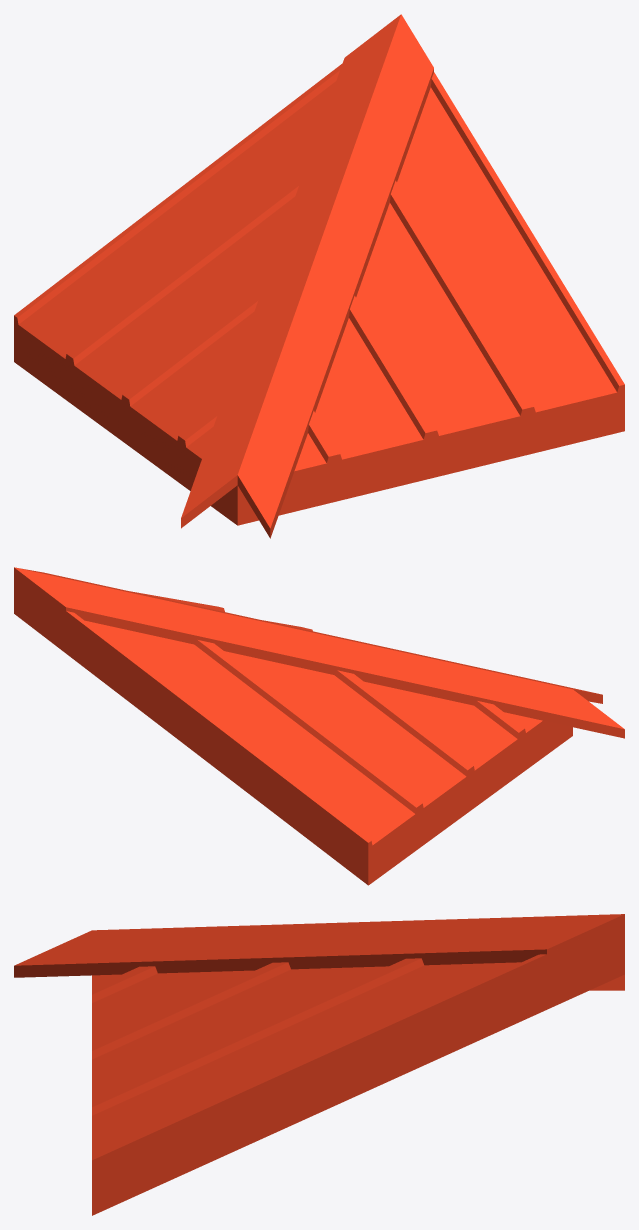
File: roof-metal-moderate-2x2m-corner-a.fbx
The picture shows the model from 3 angles, top to bottom: view 1: azimuth 30°, elevation 25°; view 2: azimuth 150°, elevation 25°; view 3: azimuth 270°, elevation 25°; orthographic projection. The views are drawn at different scales.
Parts seen in each view (by area): view 1: roof-metal-moderate-2x2m-corner-a; view 2: roof-metal-moderate-2x2m-corner-a; view 3: roof-metal-moderate-2x2m-corner-a.
Boxes of the visible parts, x1,y1,x2,y2 form: roof-metal-moderate-2x2m-corner-a: (14, 14, 624, 538); roof-metal-moderate-2x2m-corner-a: (14, 567, 624, 885); roof-metal-moderate-2x2m-corner-a: (14, 914, 624, 1215).
Size of the model in its own units: 2.29 by 1.25 by 2.29.
